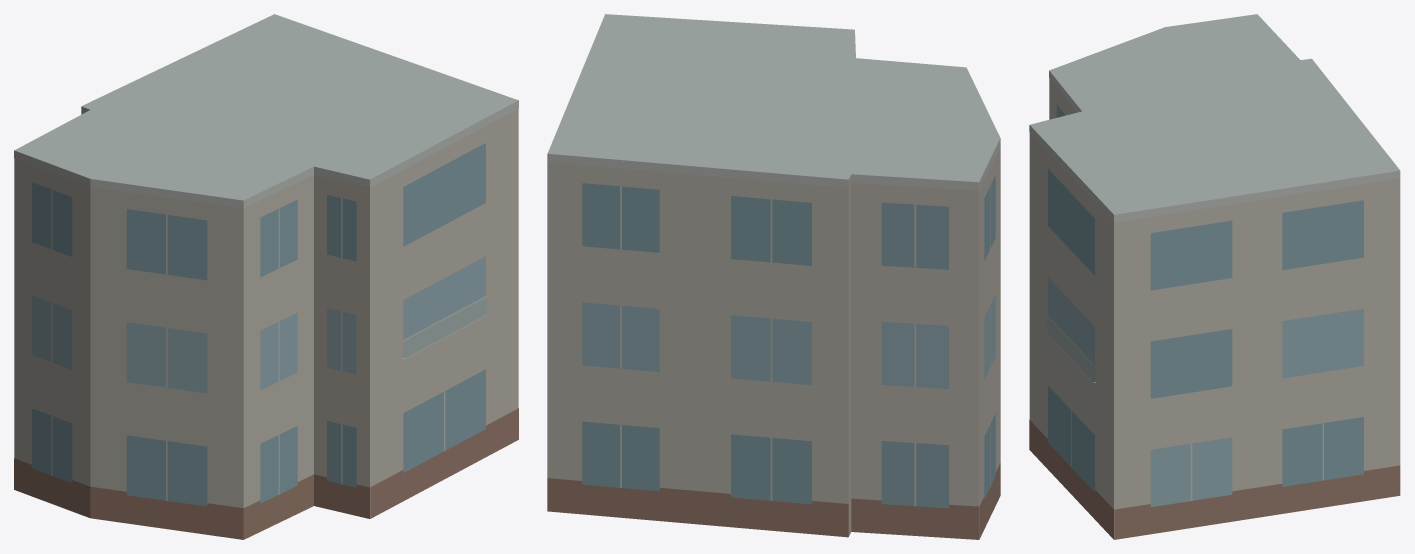
File: survey-upis-33019671.glb
3 renders of one model, left to right at view 1: azimuth 30°, elevation 25°; view 2: azimuth 150°, elevation 25°; view 3: azimuth 270°, elevation 25°, orthographic. The views are drawn at different scales.
Parts seen in each view (by area): view 1: survey-upis-33019671.tmp; view 2: survey-upis-33019671.tmp; view 3: survey-upis-33019671.tmp.
Part boxes in pixels (x1,y1,x2,y2): survey-upis-33019671.tmp: [14, 14, 518, 539]; survey-upis-33019671.tmp: [547, 14, 1000, 539]; survey-upis-33019671.tmp: [1029, 14, 1400, 539].
Size of the model in its own units: 13.79 by 10.4 by 10.77.
